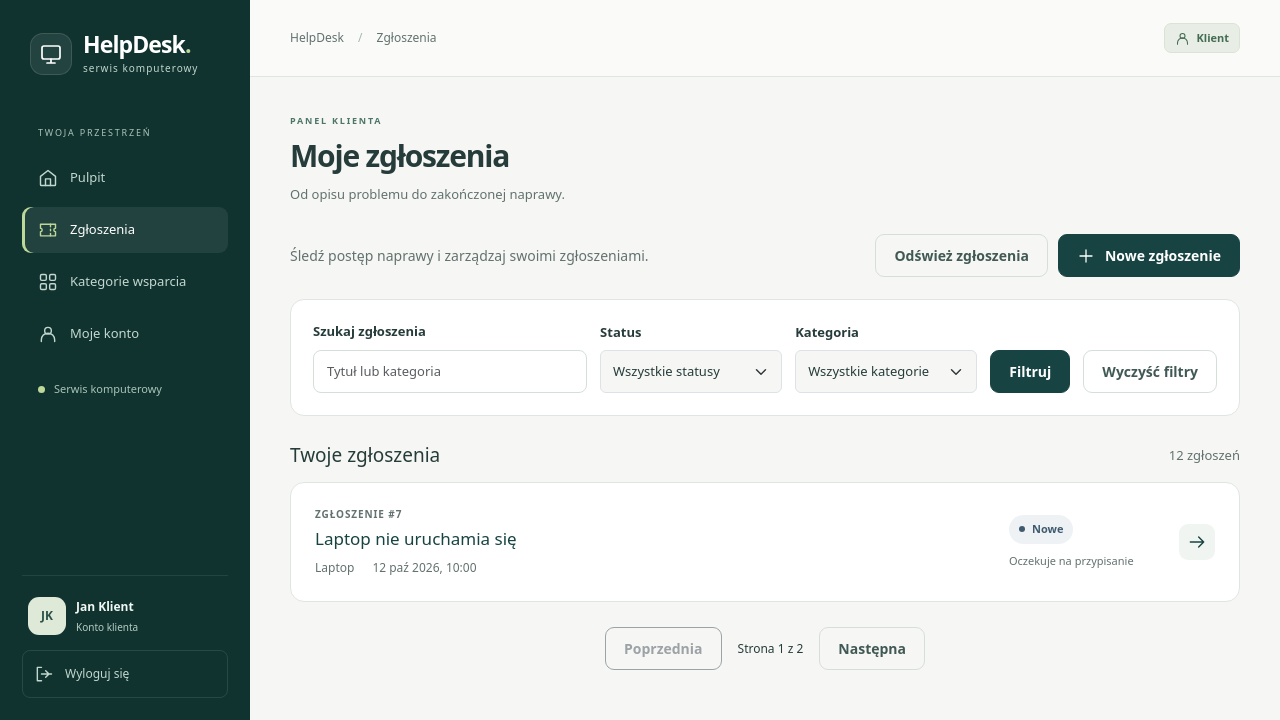
it: Filtry trafiają do API, zmiana filtra wraca na stronę 1, a pusty wynik jest czytelny
This screenshot has width=1280, height=720.
Expected: the heading "Laptop nie uruchamia się" is shown, [315, 527, 517, 550]
Click the button "Następna" at (872, 649), box [819, 627, 925, 670]
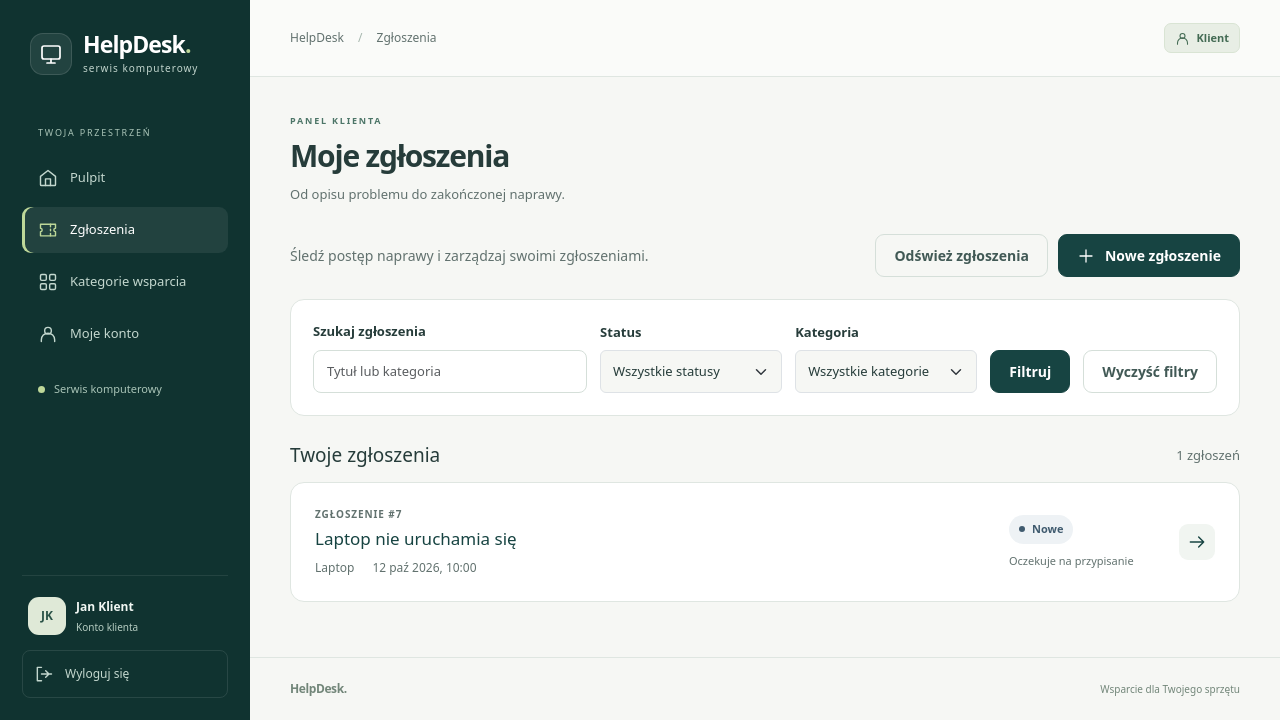
Select "Zamknięte" in the dropdown labelled "Status" at (691, 372), box [600, 350, 782, 393]
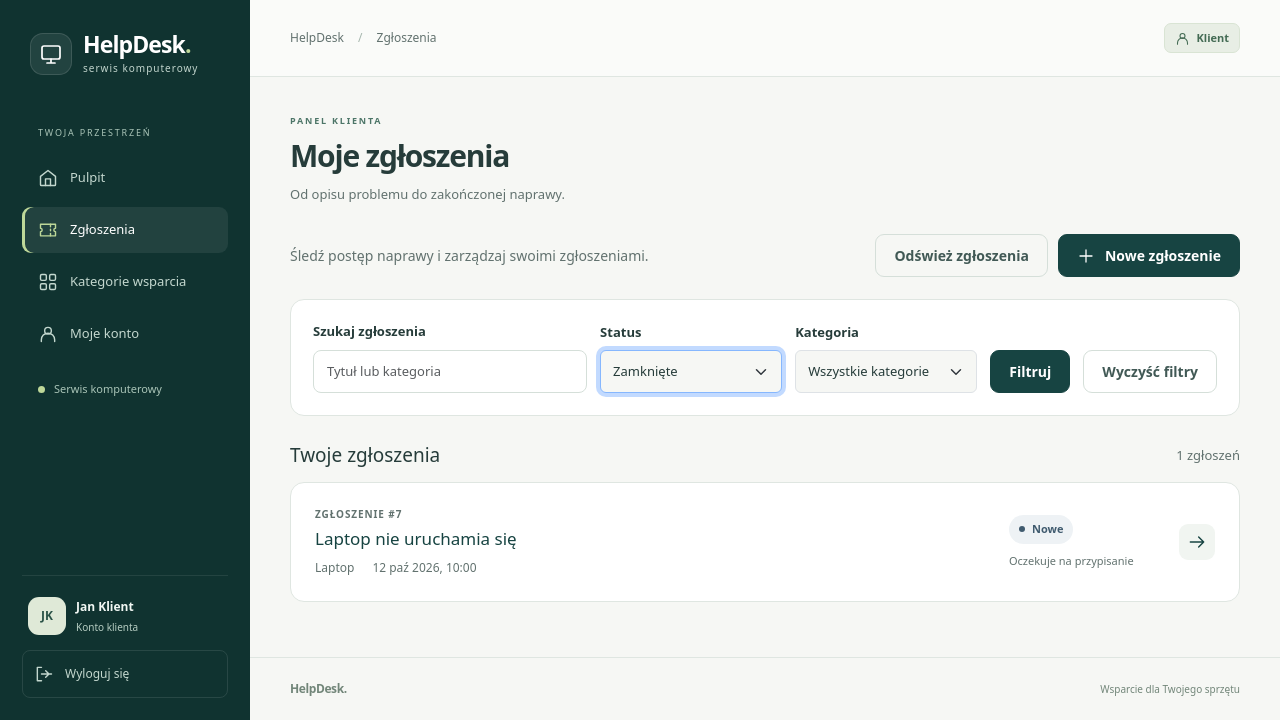
Type "drukarka" into the search field labelled "Szukaj zgłoszenia" at (450, 371), box [313, 350, 587, 393]
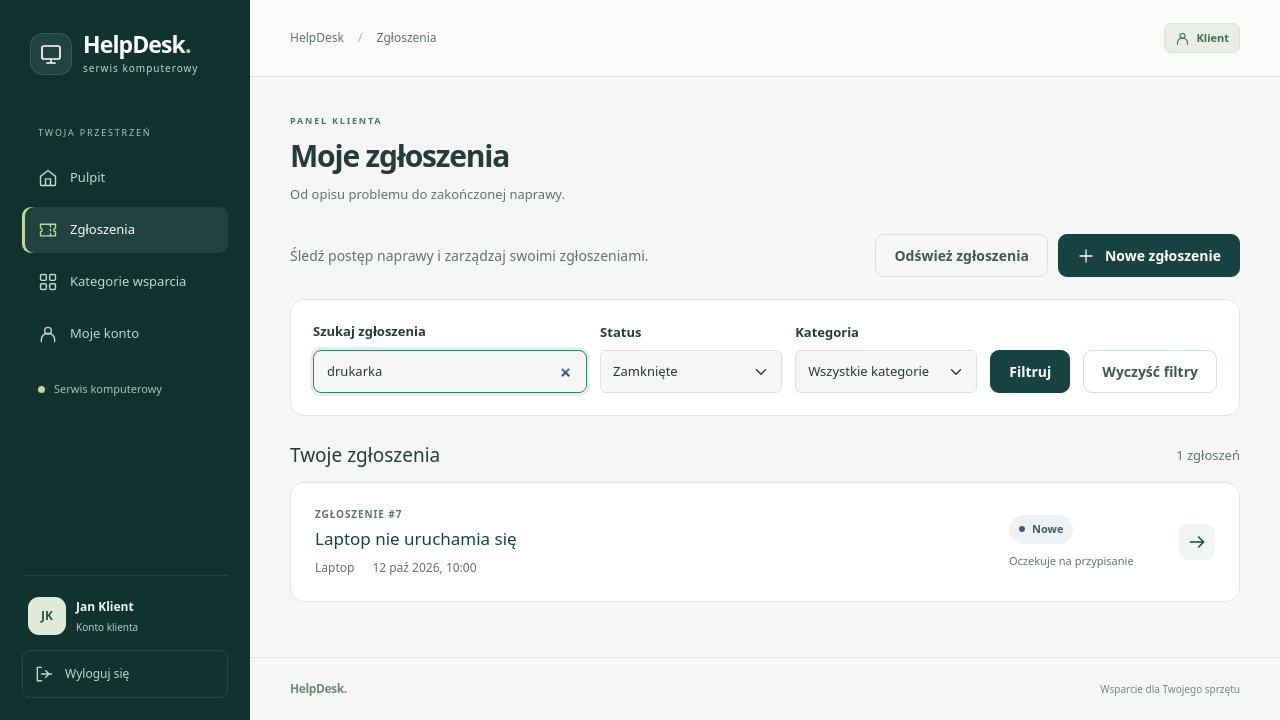
Click the button "Filtruj" at (1030, 372), box [990, 350, 1070, 393]
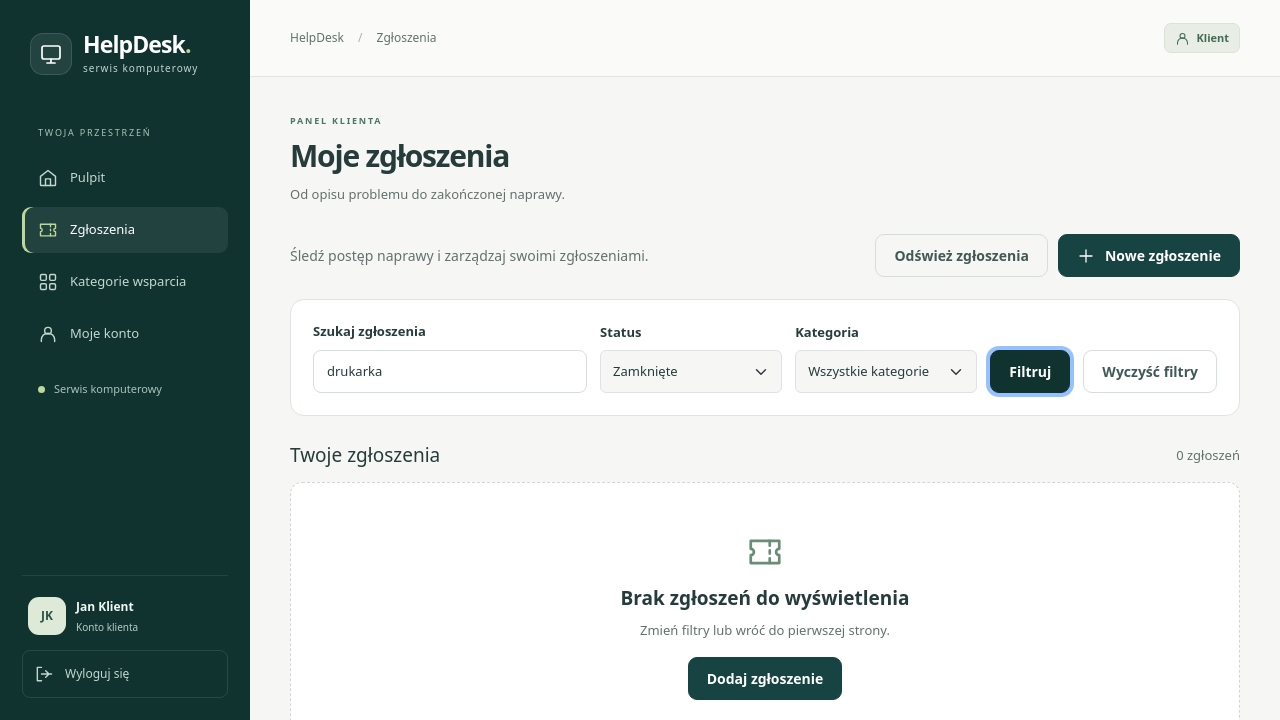
Now the heading "Brak zgłoszeń do wyświetlenia" is shown, box [620, 585, 910, 611]
Click the button "Wyczyść filtry" at (1150, 372), box [1083, 350, 1217, 393]
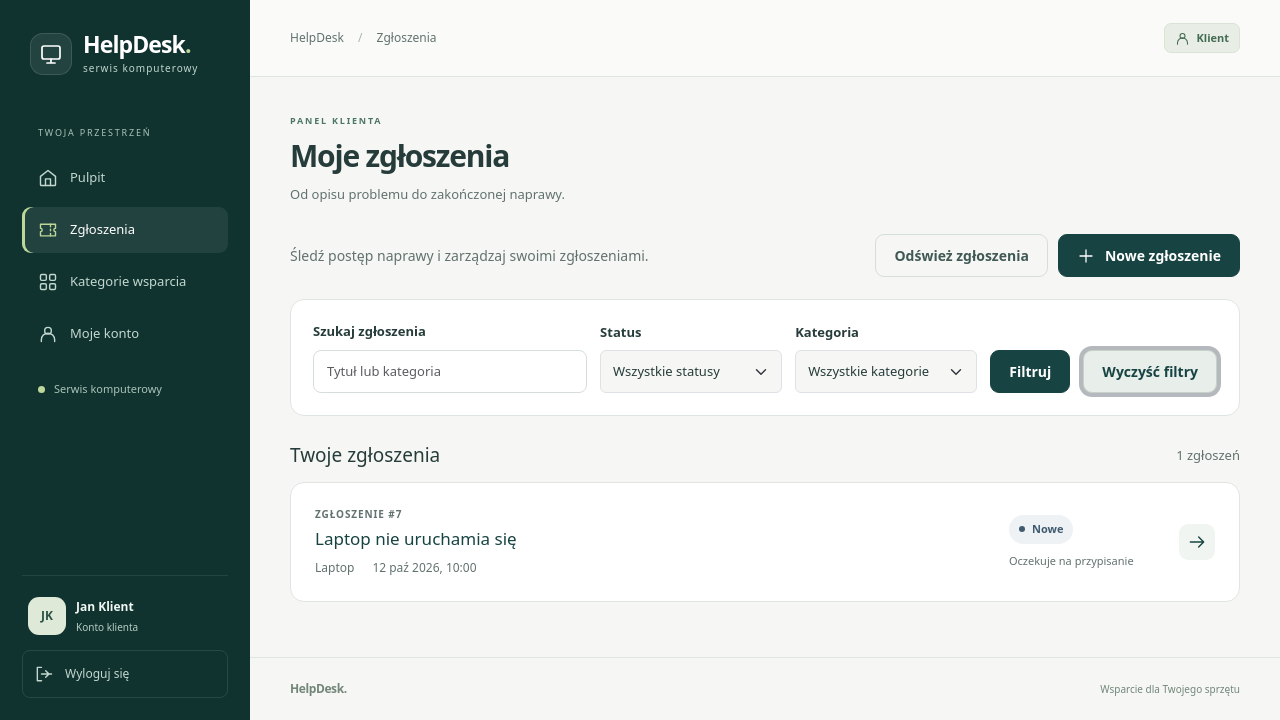
Now the heading "Laptop nie uruchamia się" is shown, box [315, 527, 517, 550]
